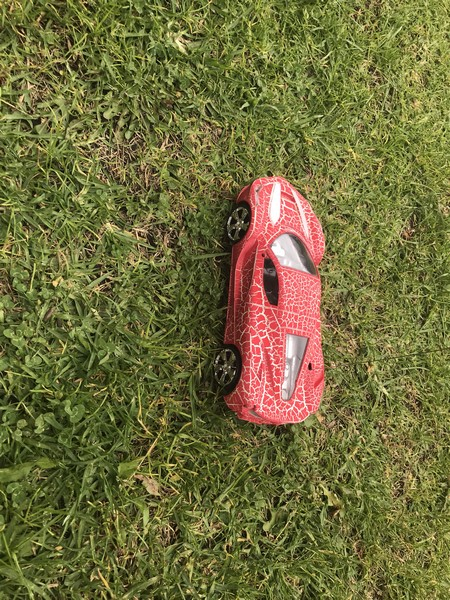RC: (210, 175, 328, 429)
